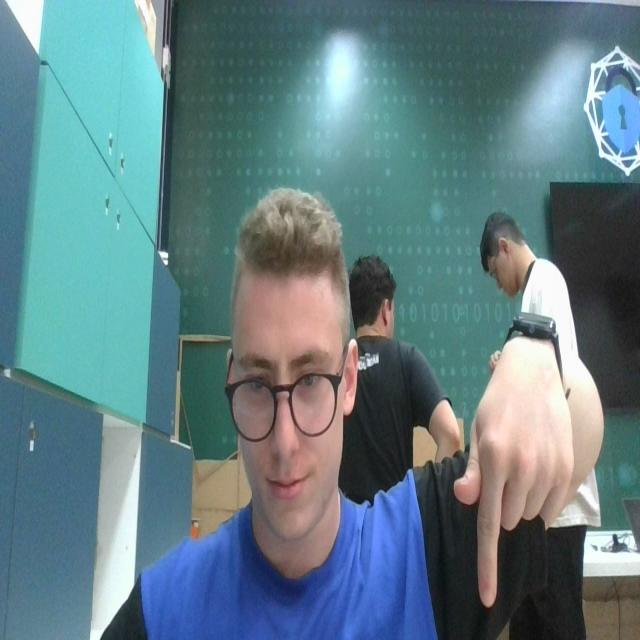Q: (456, 356, 576, 610)
